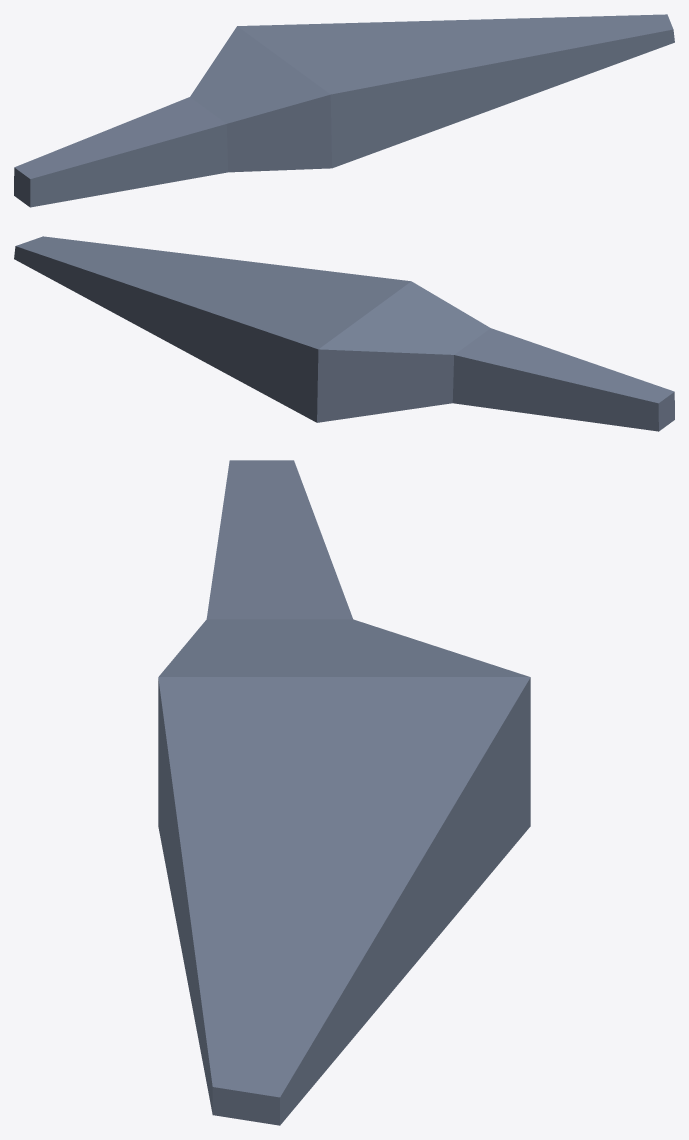
File: swordfishDead_low.glb
3 views of the same model, one above another, from view 1: azimuth 30°, elevation 25°; view 2: azimuth 150°, elevation 25°; view 3: azimuth 270°, elevation 25° (orthographic). The views are drawn at different scales.
Parts seen in each view (by area): view 1: Cube; view 2: Cube; view 3: Cube.
Boxes of the visible parts, x1,y1,x2,y2 form: Cube: (14,14,674,207); Cube: (14,236,674,431); Cube: (158,460,530,1125).
Bounding box in the file's own units: 4.6 × 0.5001 × 1.14.
